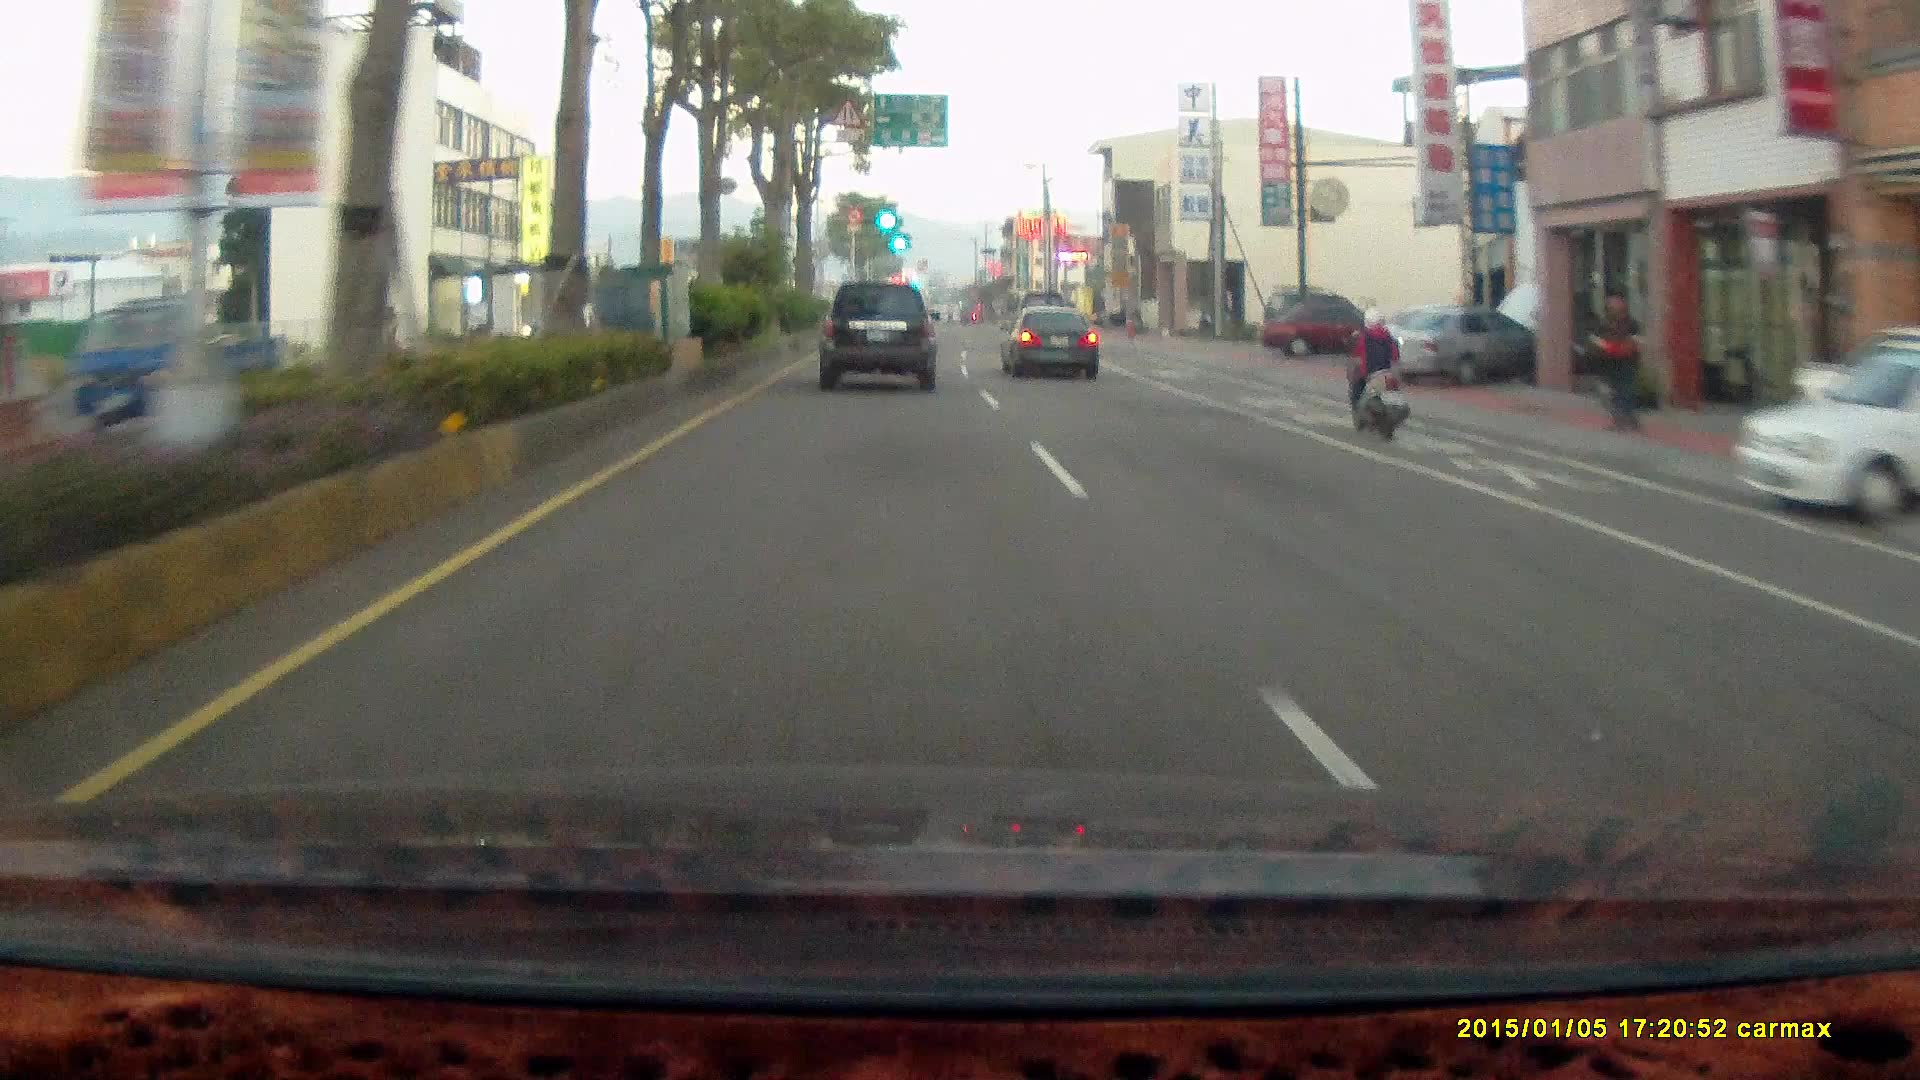pedestrian: (1585, 285, 1654, 439)
rider: (1331, 295, 1421, 451), (1341, 296, 1410, 430)
vehicle: (1733, 324, 1920, 528), (1727, 346, 1919, 526), (68, 296, 282, 437), (1373, 303, 1545, 389), (1363, 308, 1544, 388), (819, 282, 943, 394), (817, 281, 941, 391), (1000, 305, 1100, 378), (1004, 306, 1105, 379), (1261, 301, 1379, 363), (1260, 303, 1379, 359)
